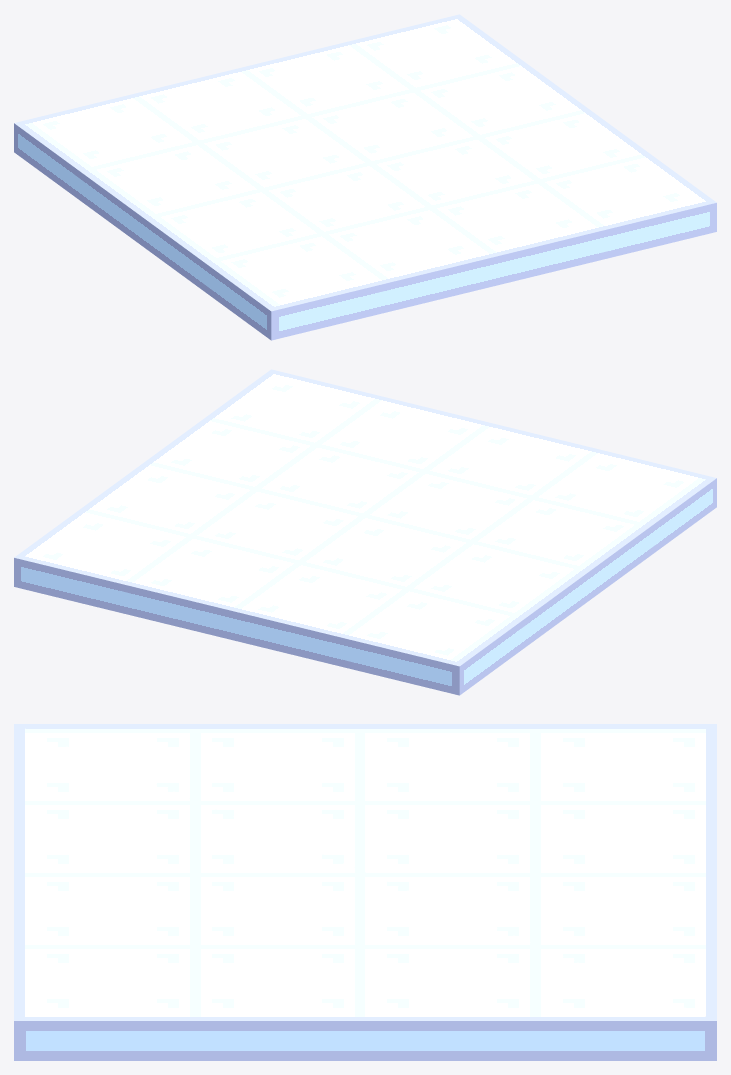
Rendered from PLATFORM.glb.
3 views of the same model, one above another, from view 1: azimuth 30°, elevation 25°; view 2: azimuth 150°, elevation 25°; view 3: azimuth 270°, elevation 25° (orthographic). The views are drawn at different scales.
Visible parts, largest first — view 1: Cube.004; view 2: Cube.004; view 3: Cube.004.
Boxes of the visible parts, x1,y1,x2,y2 form: Cube.004: (14, 14, 716, 340); Cube.004: (14, 369, 716, 695); Cube.004: (14, 724, 716, 1060).
Bounding box in the file's own units: 2 × 0.3125 × 2.
